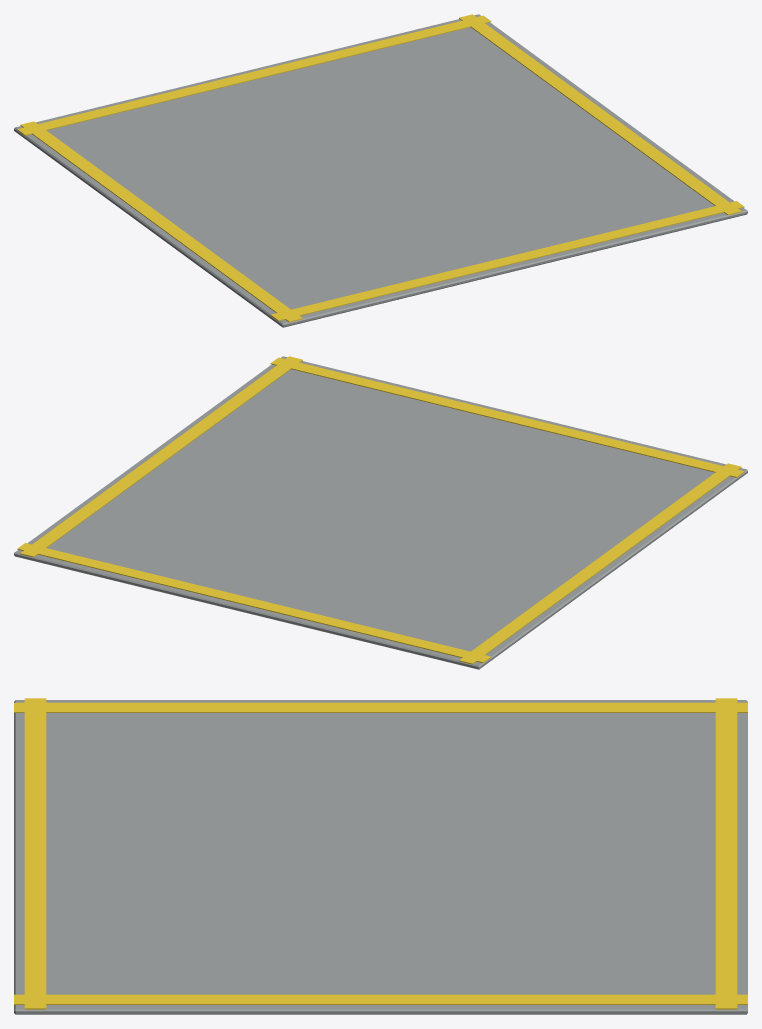
File: trap_plate.glb
The picture shows the model from 3 angles, top to bottom: view 1: azimuth 30°, elevation 25°; view 2: azimuth 150°, elevation 25°; view 3: azimuth 270°, elevation 25°; orthographic projection. The views are drawn at different scales.
Visible parts, largest first — view 1: trap_plate; view 2: trap_plate; view 3: trap_plate.
Part boxes in pixels (x1,y1,x2,y2): trap_plate: (14, 14, 747, 327); trap_plate: (14, 356, 747, 669); trap_plate: (14, 698, 747, 1014).
Size of the model in its own units: 3.4 by 0.036 by 3.4.
